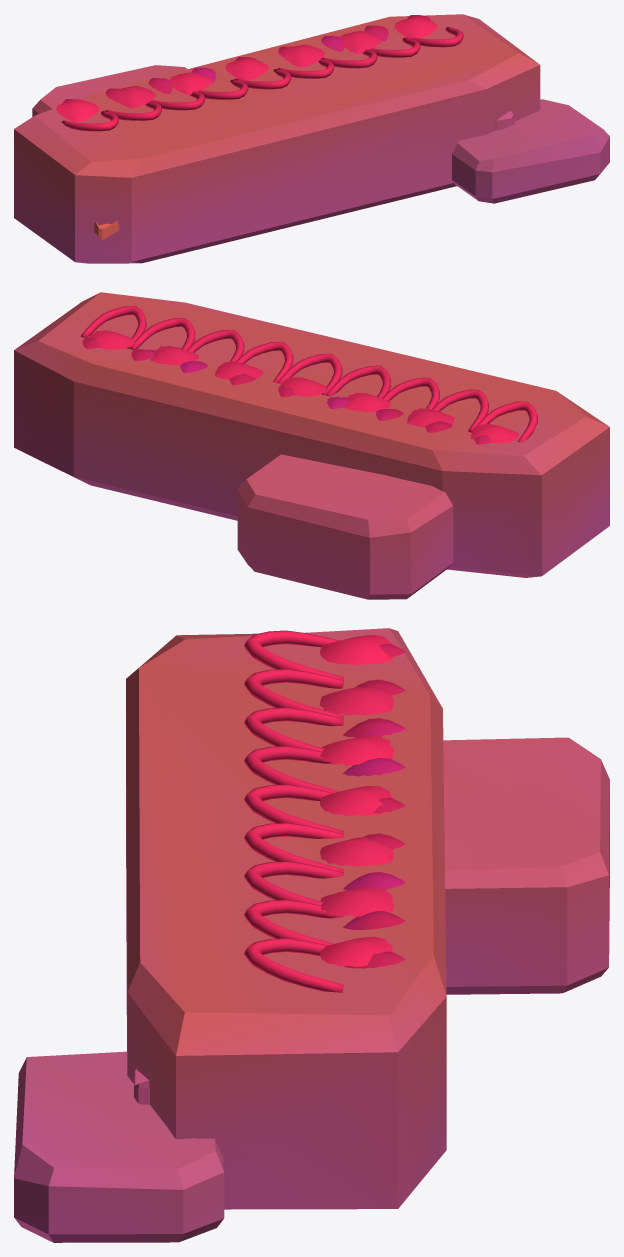
The model's file is SM_LW_FallenLintel.fbx.
3 views of the same model, one above another, from view 1: azimuth 30°, elevation 25°; view 2: azimuth 150°, elevation 25°; view 3: azimuth 270°, elevation 25° (orthographic). The views are drawn at different scales.
Visible parts, largest first — view 1: SM_LW_FallenLintel; view 2: SM_LW_FallenLintel; view 3: SM_LW_FallenLintel.
Boxes of the visible parts, x1,y1,x2,y2 form: SM_LW_FallenLintel: (14,14,609,263); SM_LW_FallenLintel: (14,292,609,599); SM_LW_FallenLintel: (14,628,609,1242).
Size of the model in its own units: 85.11 by 151 by 34.07.
